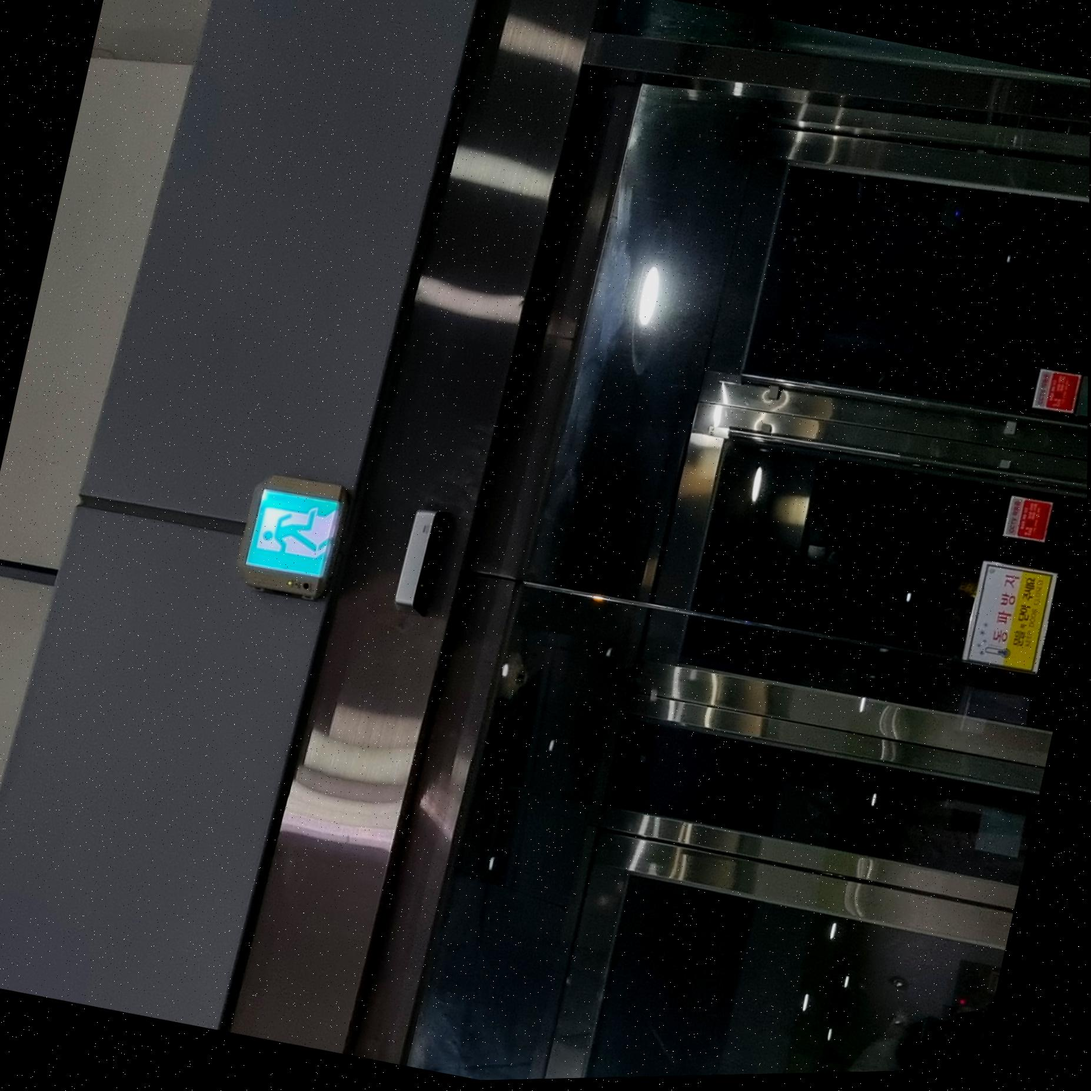emergency_exit: (236, 473, 348, 600), (961, 558, 1058, 676), (1031, 366, 1083, 416), (1002, 493, 1054, 543)
